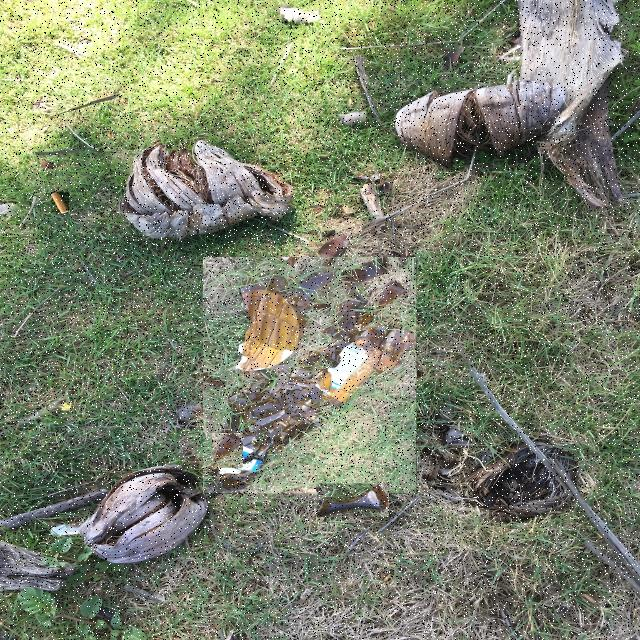Broken glass: (204, 258, 416, 493), (317, 485, 389, 517), (215, 435, 243, 468)
Cigarette: (52, 192, 69, 214)
